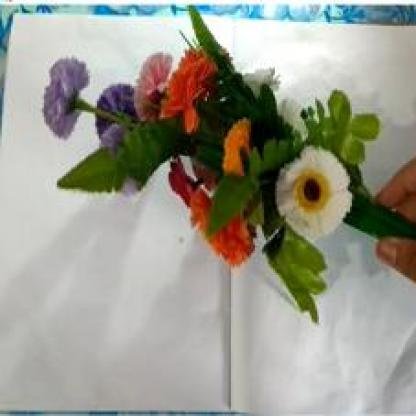flower: (26, 20, 369, 324)
